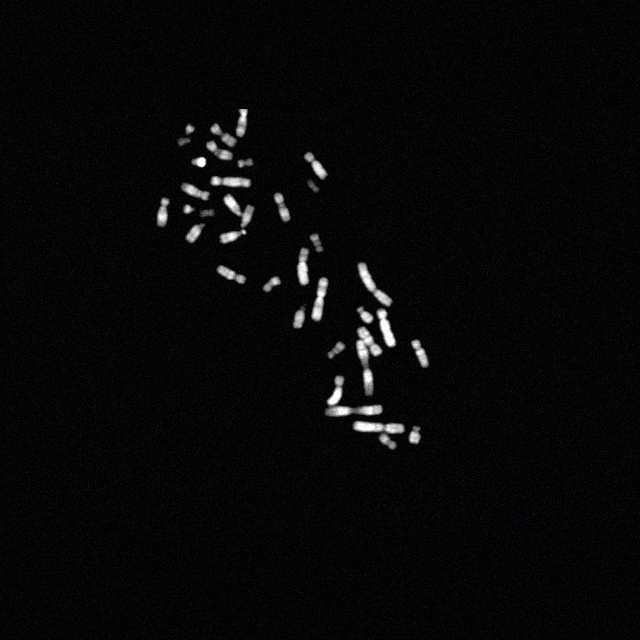chromosome: (358, 262, 394, 306), (356, 340, 374, 394), (357, 324, 383, 356), (312, 276, 330, 322), (377, 308, 397, 346), (353, 420, 405, 434), (303, 150, 327, 180), (324, 405, 384, 417), (210, 122, 238, 146), (327, 374, 347, 406), (216, 264, 247, 284), (206, 140, 234, 162), (412, 338, 430, 368), (298, 248, 312, 286), (181, 182, 209, 200), (220, 228, 248, 246), (186, 222, 208, 244), (210, 176, 250, 188), (156, 196, 170, 228), (276, 192, 290, 222), (224, 194, 243, 216), (326, 340, 346, 360), (293, 306, 309, 330), (357, 304, 375, 324), (236, 108, 248, 136), (264, 276, 282, 294), (309, 233, 325, 253), (240, 205, 253, 228), (378, 434, 398, 448), (237, 157, 256, 169), (409, 426, 421, 444), (181, 203, 197, 215), (190, 156, 206, 168), (307, 179, 319, 193), (183, 124, 195, 136), (200, 208, 216, 216)
